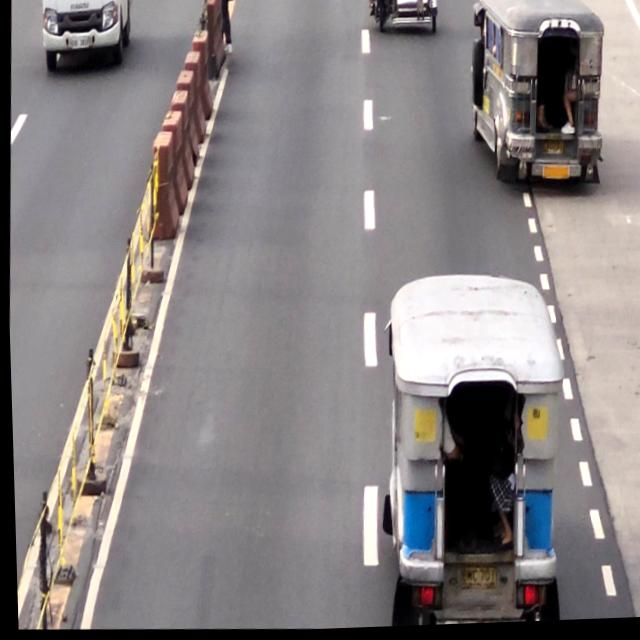Jeep: (377, 280, 562, 629), (466, 0, 606, 183)
License-Plate: (453, 560, 496, 601)
